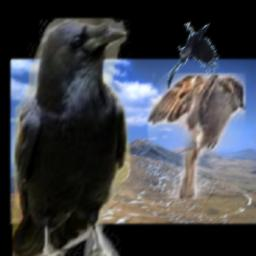Crow: (12, 18, 129, 256), (168, 22, 220, 92)
Sparrow: (148, 74, 245, 200)
